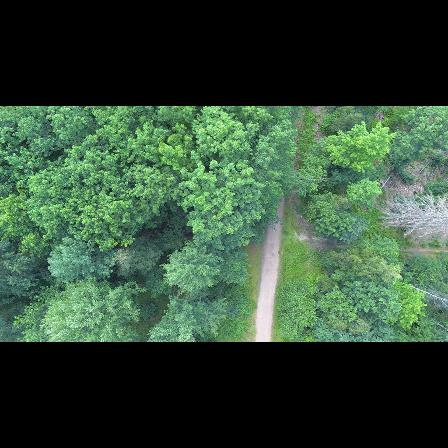Dead: (375, 191, 448, 237), (399, 278, 448, 311)
